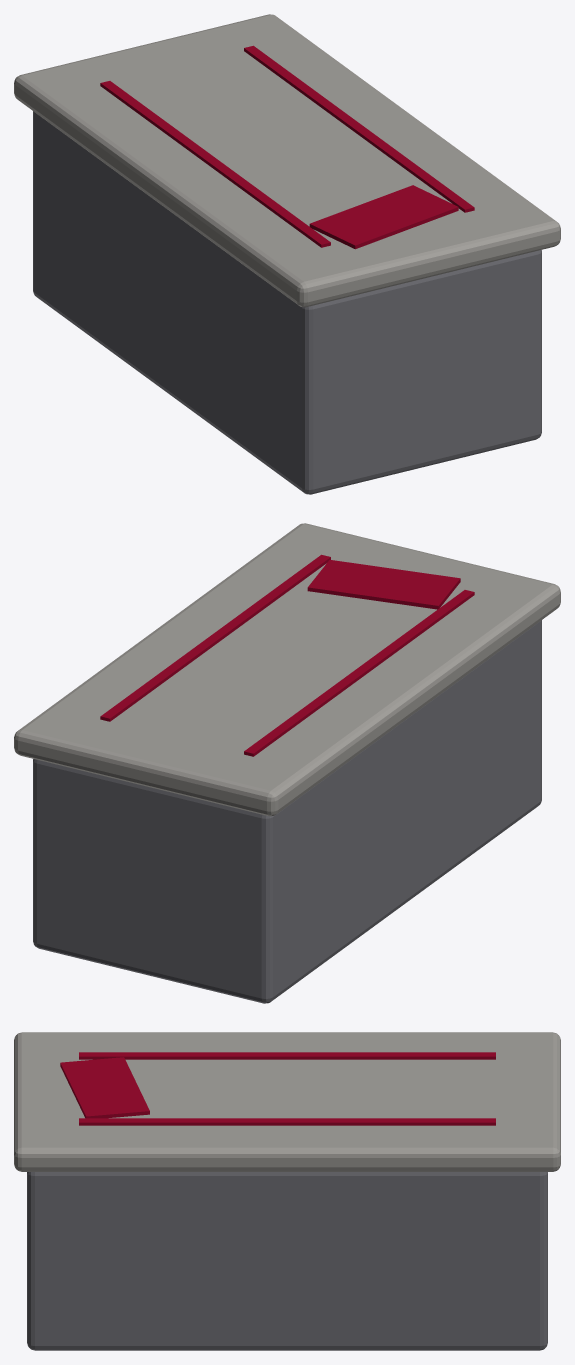
Rendered from slab_sacrificial_blood.glb.
3 views of the same model, one above another, from view 1: azimuth 30°, elevation 25°; view 2: azimuth 150°, elevation 25°; view 3: azimuth 270°, elevation 25° (orthographic). The views are drawn at different scales.
Visible parts, largest first — view 1: GD_slab_sacrificial_blood__m0, GD_slab_sacrificial_blood__m1, GD_slab_sacrificial_blood__m2; view 2: GD_slab_sacrificial_blood__m0, GD_slab_sacrificial_blood__m1, GD_slab_sacrificial_blood__m2; view 3: GD_slab_sacrificial_blood__m0, GD_slab_sacrificial_blood__m1, GD_slab_sacrificial_blood__m2.
Part boxes in pixels (bbox=[...]): GD_slab_sacrificial_blood__m0: bbox=[33, 111, 541, 494]; GD_slab_sacrificial_blood__m1: bbox=[14, 14, 560, 307]; GD_slab_sacrificial_blood__m2: bbox=[100, 45, 474, 249]; GD_slab_sacrificial_blood__m0: bbox=[33, 620, 541, 1003]; GD_slab_sacrificial_blood__m1: bbox=[14, 523, 560, 816]; GD_slab_sacrificial_blood__m2: bbox=[100, 554, 474, 756]; GD_slab_sacrificial_blood__m0: bbox=[27, 1172, 547, 1350]; GD_slab_sacrificial_blood__m1: bbox=[14, 1032, 560, 1171]; GD_slab_sacrificial_blood__m2: bbox=[60, 1052, 495, 1125].
Bounding box in the file's own units: 1.1 × 0.895 × 2.1.
